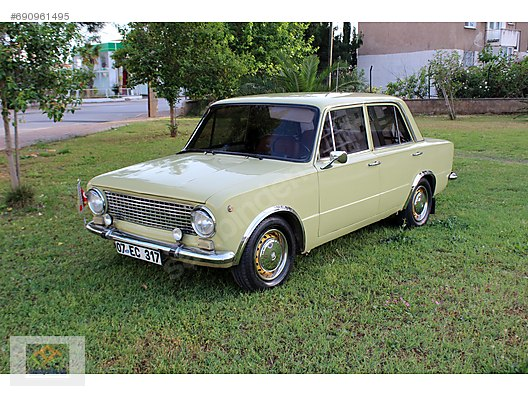murat: (77, 92, 459, 301)
